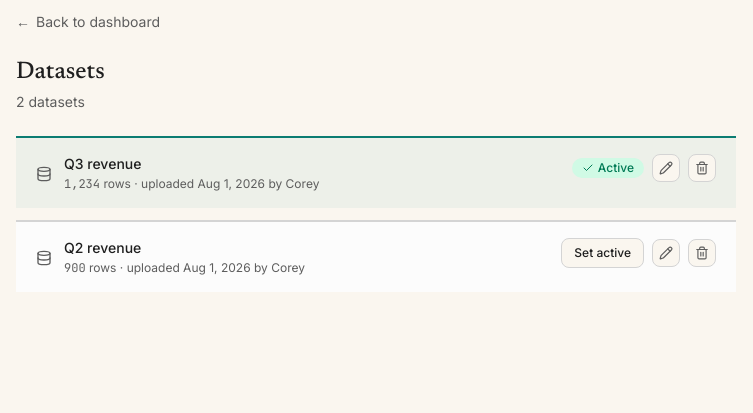
Datasets delete › explains an owner-only refusal in plain terms
The width and height of the screenshot is (753, 413).
expect the text "Q3 revenue" is shown: met, box [64, 155, 142, 172]
Click the button named "Delete dataset" in the row of "Q3 revenue": [702, 168] box [688, 154, 716, 182]
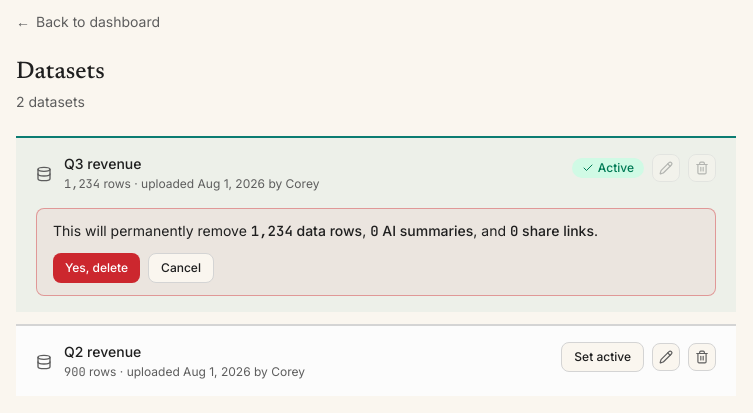
Click the button "Yes, delete": [97, 268] box [53, 253, 140, 283]
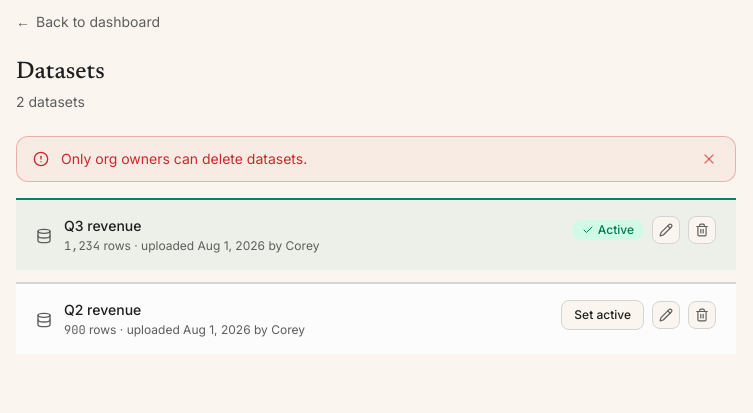
expect the text "Q3 revenue" is shown: met, box [64, 217, 142, 234]
expect the text "Only org owners can delete datasets." is shown: met, box [61, 150, 307, 167]
